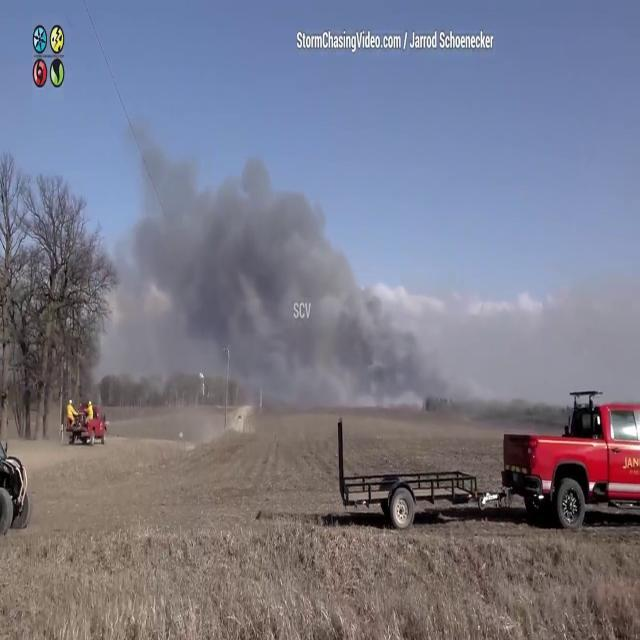Smoke: (100, 130, 452, 411)
